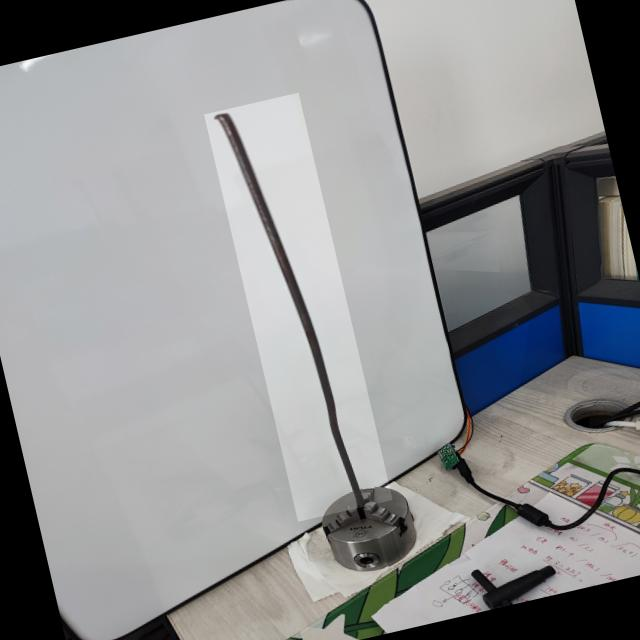plain round bar: (204, 92, 392, 521)
